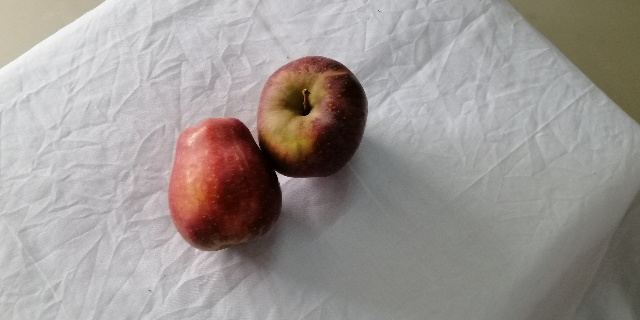apple_kashmir: (164, 116, 287, 254), (256, 50, 383, 182)
